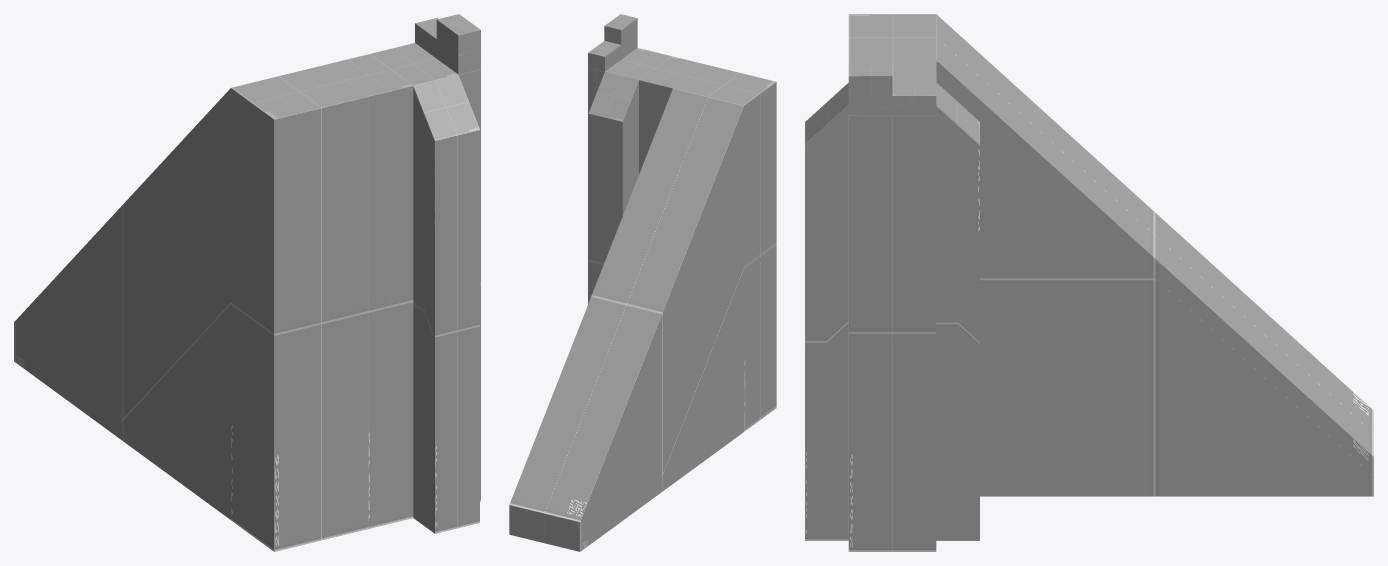
Rendered from ramp.glb.
The picture shows the model from 3 angles, left to right: view 1: azimuth 30°, elevation 25°; view 2: azimuth 150°, elevation 25°; view 3: azimuth 270°, elevation 25°; orthographic projection. The views are drawn at different scales.
Visible parts, largest first — view 1: ramp; view 2: ramp; view 3: ramp.
Part boxes in pixels (<box>): ramp: <box>14,14,480,551</box>; ramp: <box>509,14,776,551</box>; ramp: <box>805,14,1373,551</box>.
Size of what is drawn, in the model's own units: 11 by 24 by 26.
Materials: 1 (1 with a texture image).
